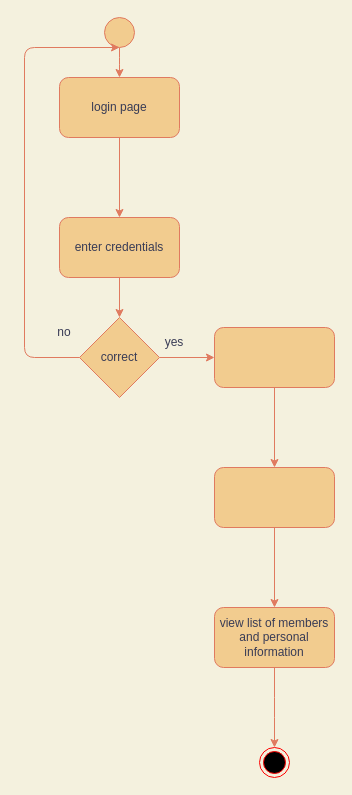
Some shapes in this 352 by 795 pixel diagram are drawn without their labels. The box of each missing label's shape, as (x1, y1, x2, y2) in pixels:
access members: (214, 466, 334, 528)
team leader dashboard: (214, 326, 334, 388)
